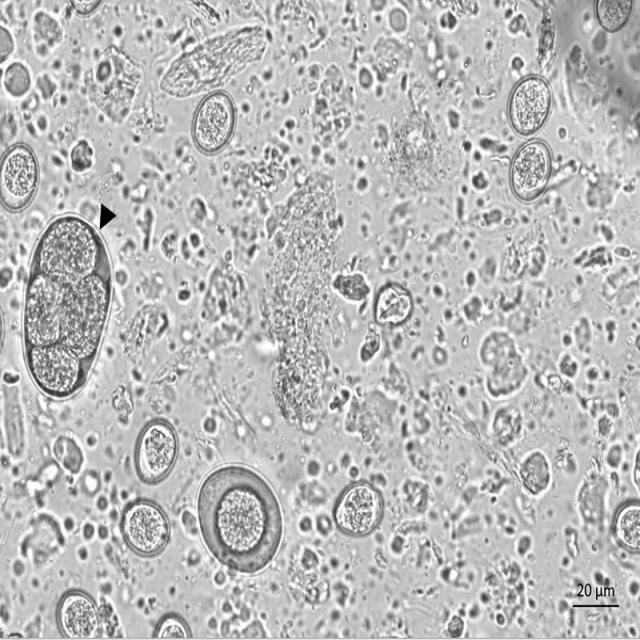Ancylostoma Spp: (22, 206, 121, 405)
